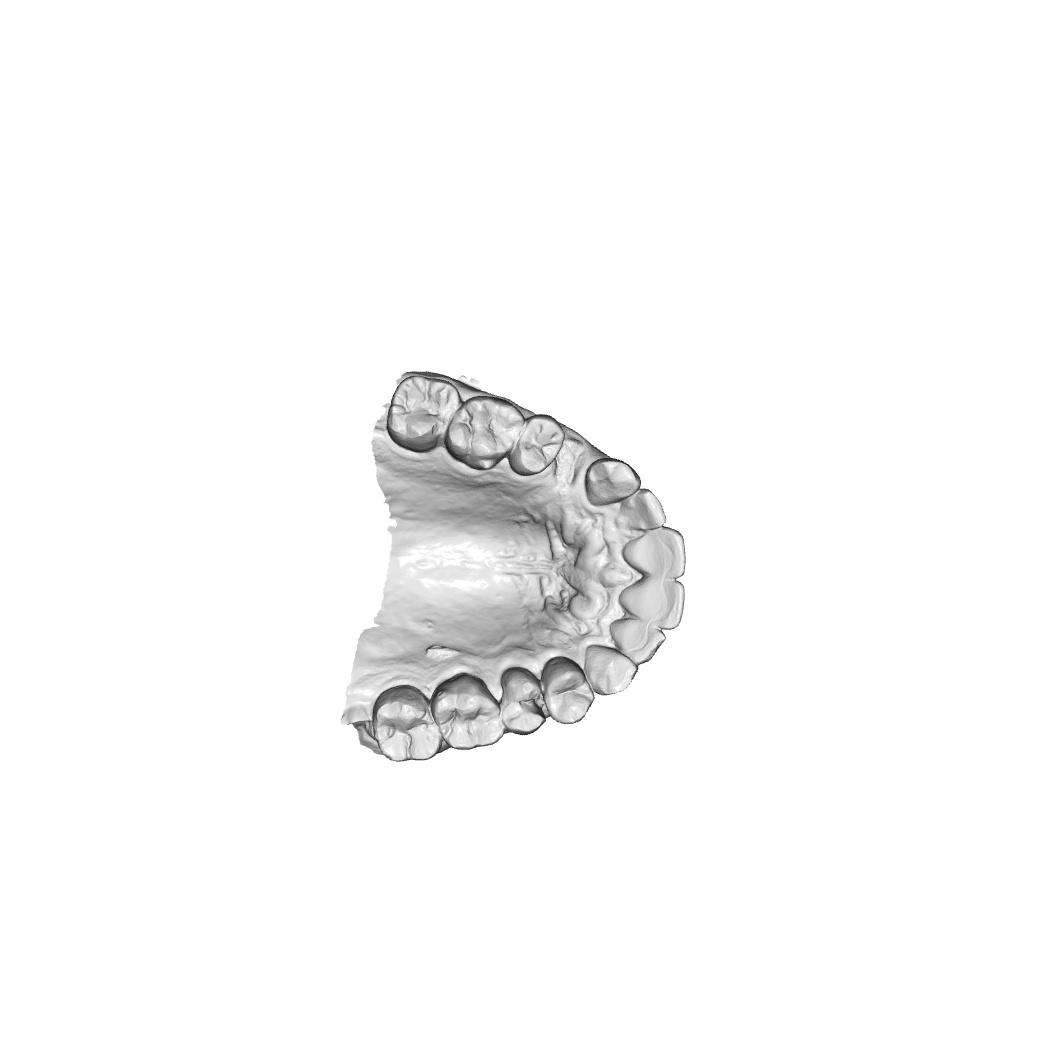canine: (582, 643, 639, 696), (585, 456, 642, 507)
incisor: (621, 526, 687, 579), (618, 579, 685, 630), (608, 618, 668, 665), (615, 488, 668, 531)
molar: (443, 395, 526, 471), (386, 374, 462, 455), (430, 672, 505, 751), (371, 683, 444, 764)
premolar: (540, 656, 596, 725), (507, 412, 566, 477), (499, 665, 547, 737)
